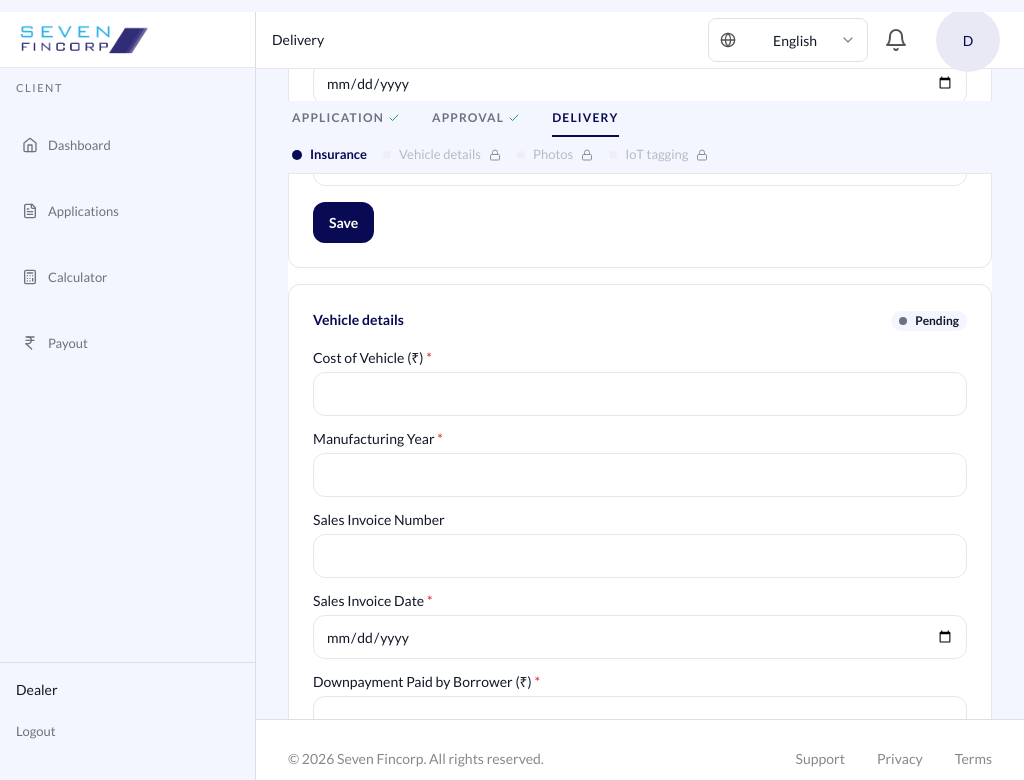
Test: DealerDeliveryPage › blocks vehicle save when the chassis number is missing
(page scrolled)
In the field labelled "Cost of Vehicle (₹) *": x=640, y=394 [313,372,967,416], type "90000"
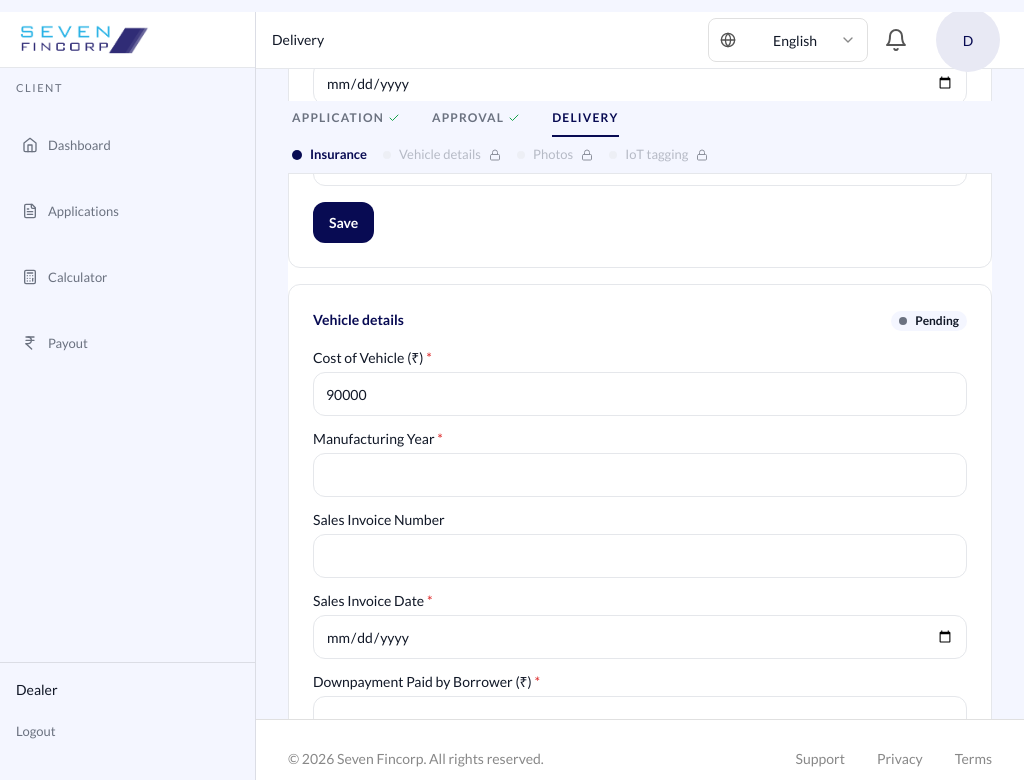
In the field labelled "Manufacturing Year *": x=640, y=475 [313,453,967,497], type "2024"
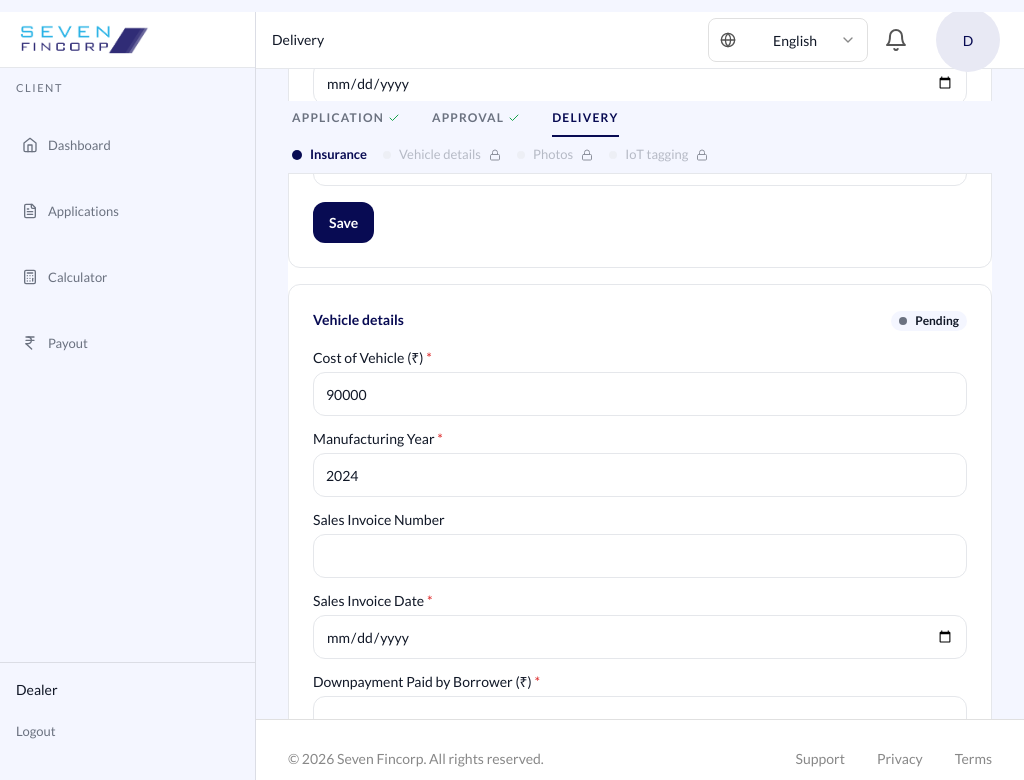
In the date field labelled "Sales Invoice Date *": x=640, y=637 [313,615,967,659], type "2026-11-01"
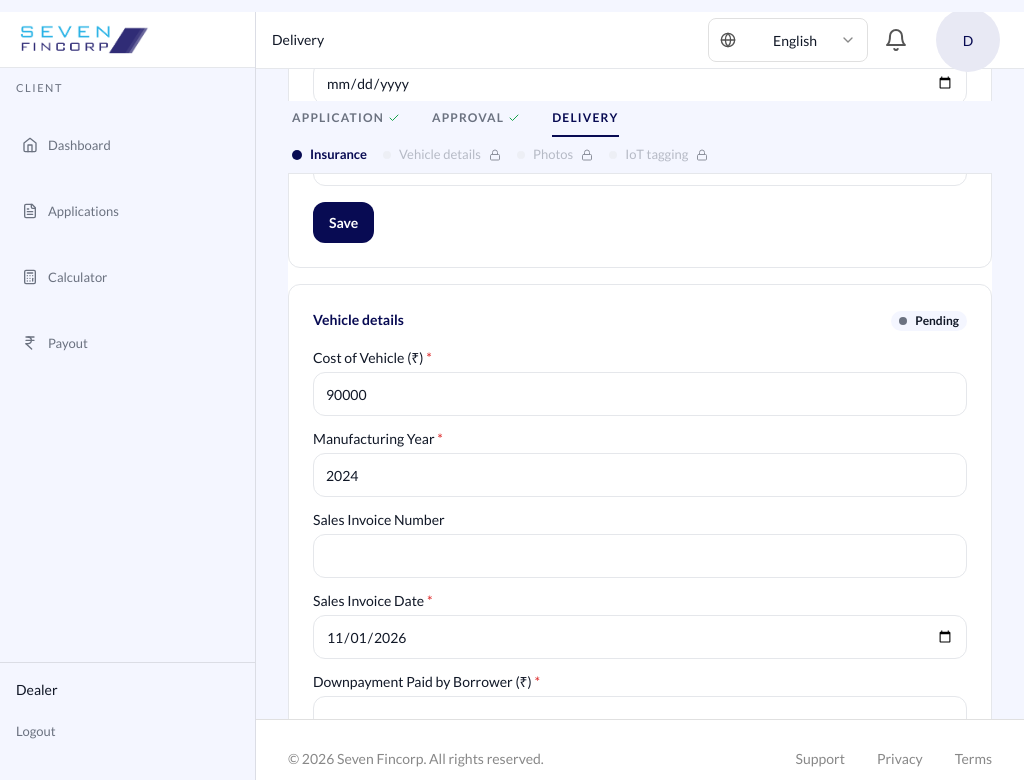
In the field labelled "Downpayment Paid by Borrower (₹) *": x=640, y=718 [313,696,967,740], type "10000"
(page scrolled)
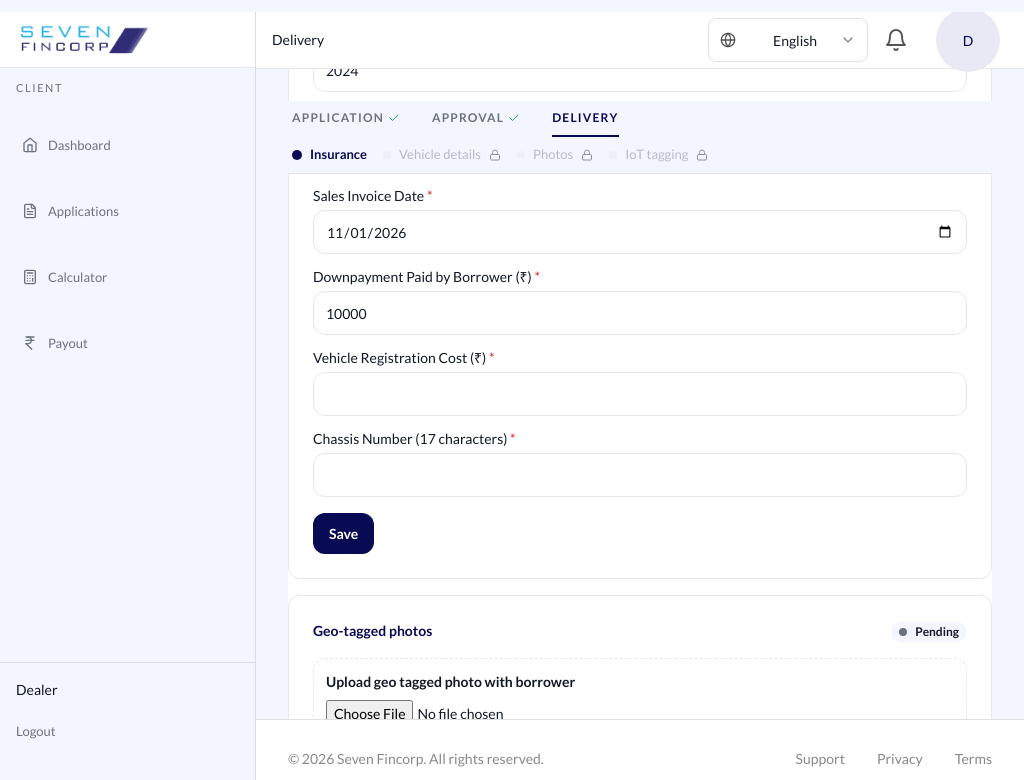
In the field labelled "Vehicle Registration Cost (₹) *": x=640, y=394 [313,372,967,416], type "0"
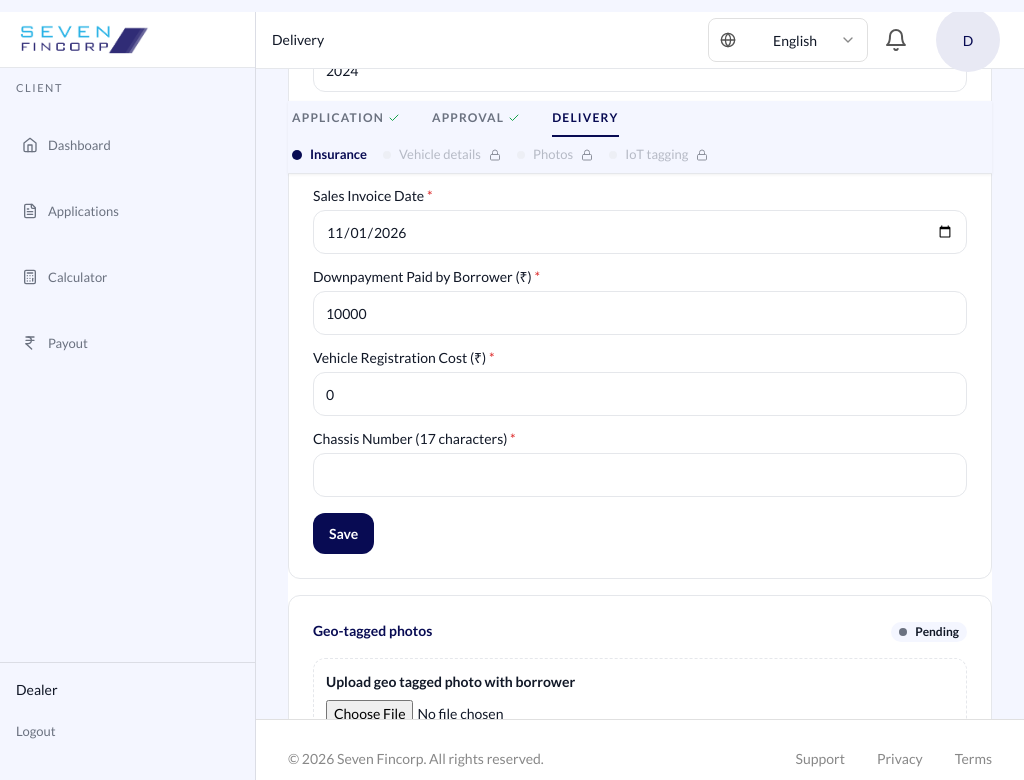
Click the button with test id "delivery-card-vehicle-save": x=344, y=534 [313,513,374,554]
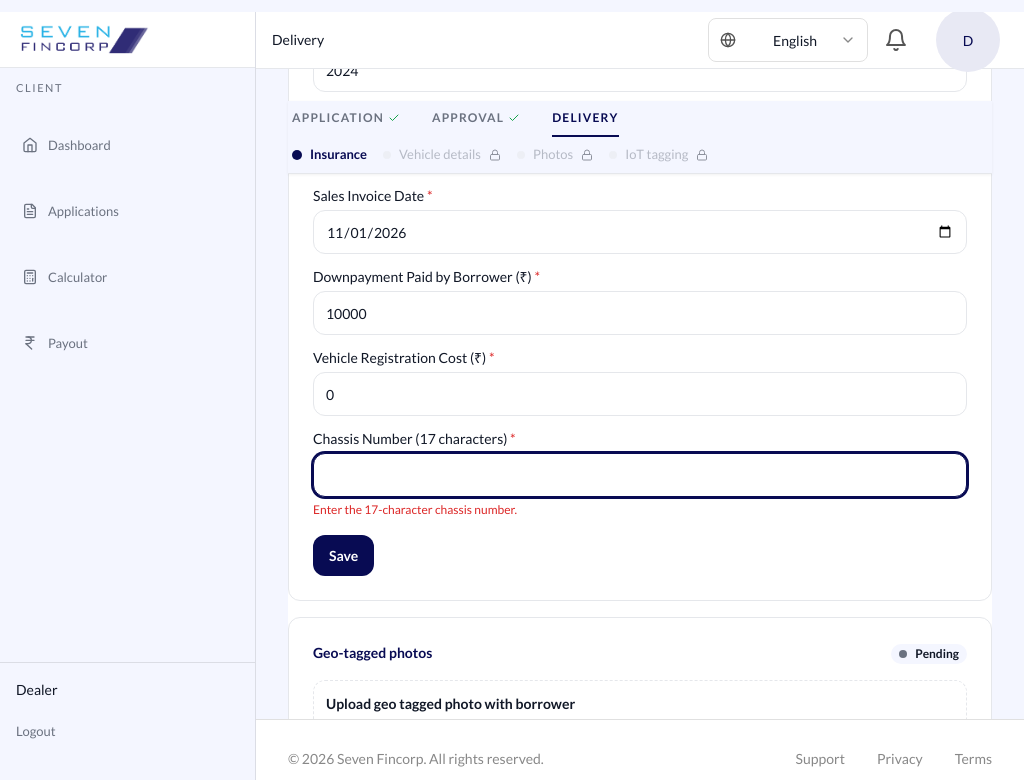
Now the text "Enter the 17-character chassis number." is shown, box [313,502,517,517]
